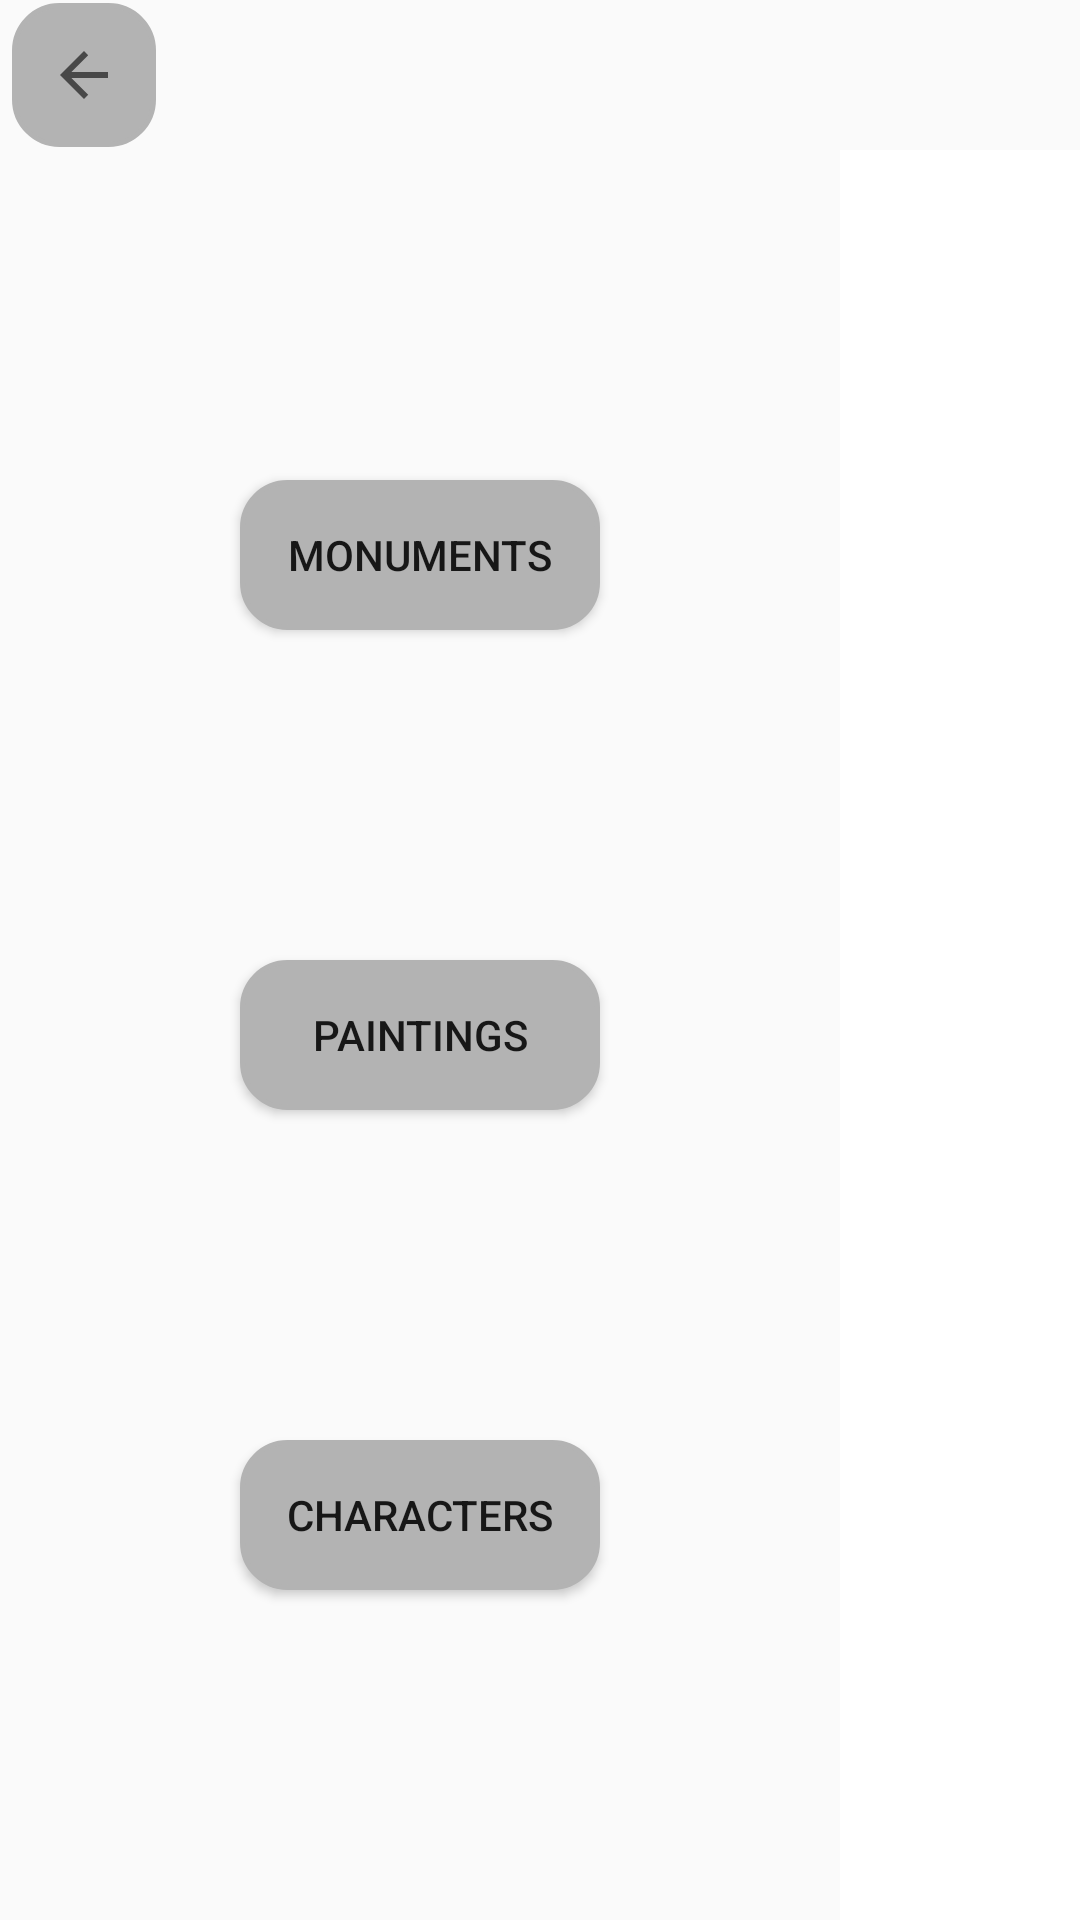

Where icons sit on this 1080px x 1920px app screen, as (x1, y1, x2, y2):
Back: (12, 3, 156, 147)
